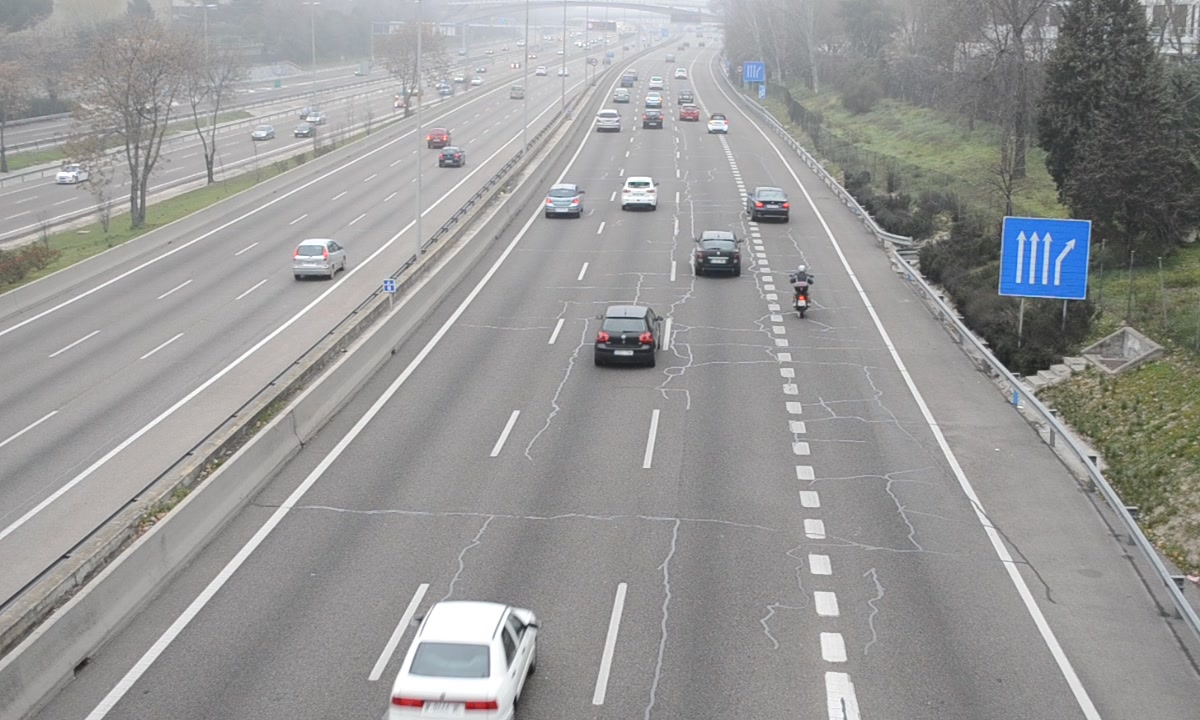car: (387, 599, 538, 718), (596, 304, 661, 367), (694, 232, 743, 277), (747, 185, 790, 223), (541, 183, 584, 217), (620, 177, 660, 210), (595, 107, 622, 133)
motorcycle: (789, 263, 815, 321)
